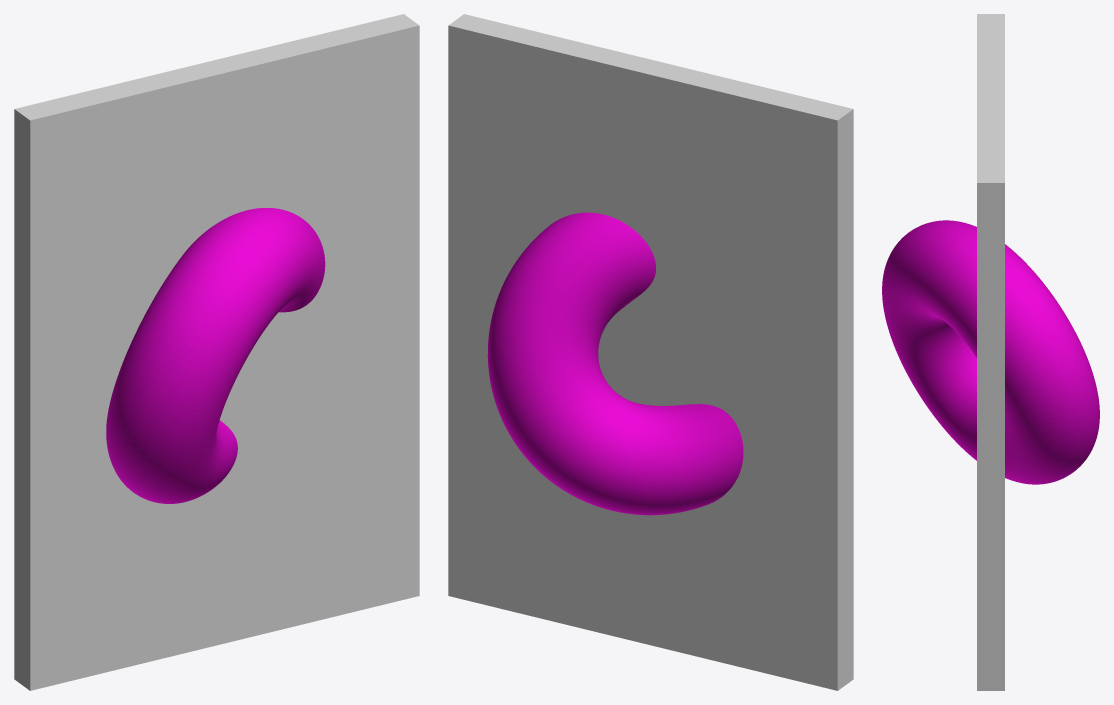
File: card1.glb
3 views of the same model, side by side, from view 1: azimuth 30°, elevation 25°; view 2: azimuth 150°, elevation 25°; view 3: azimuth 270°, elevation 25° (orthographic). The views are drawn at different scales.
Parts seen in each view (by area): view 1: Cube, Torus.002; view 2: Cube, Torus.002; view 3: Torus.002, Cube.
Boxes of the visible parts, <box> form: Cube: <box>14,14,419,690</box>; Torus.002: <box>106,208,325,503</box>; Cube: <box>448,14,853,690</box>; Torus.002: <box>487,212,743,515</box>; Torus.002: <box>882,220,1099,484</box>; Cube: <box>977,14,1004,690</box>.
Bounding box in the file's own units: 1.43 × 2 × 0.7777.
